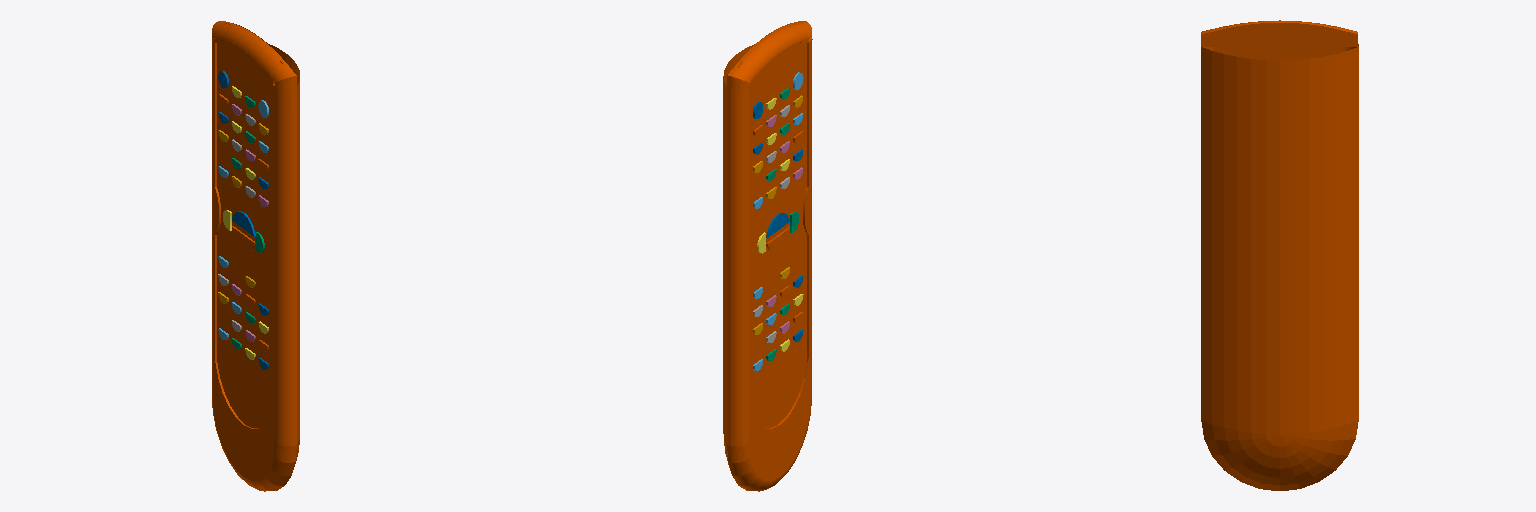
--- What the picture shows (computed from the rendered views, not written in the file) ---
3 views of the same robot in one strip: view 1: azimuth 30°, elevation 25°; view 2: azimuth 150°, elevation 25°; view 3: azimuth 270°, elevation 25° (orthographic).
Robot: partnet_200065ca496c39086372ead55db87fa8 — 46 links, 45 joints (44 prismatic, 1 fixed); root link base; default pose: every joint at zero.
Visible links, largest first — view 1: link_44; view 2: link_44; view 3: link_44.
Link boxes in pixels (x1,y1,x2,y2): link_44: [212, 21, 299, 491]; link_44: [723, 21, 812, 491]; link_44: [1201, 20, 1358, 490].
Bounding box of the posed robot: 0.1952 × 0.6012 × 1.98 m (x, y, z).
Meshes: 53 distinct files referenced, 53 mesh visuals loaded (53 OBJ).

robot.urdf — partnet_200065ca496c39086372ead55db87fa8:
<?xml version="1.0" ?>
<robot name="partnet_200065ca496c39086372ead55db87fa8">
	<link name="base"/>
	<link name="link_0">
		<visual name="button-1">
			<origin xyz="-0.0010991717439805537 -0.10365814251398242 -0.06839100000000009"/>
			<geometry>
				<mesh filename="textured_objs/original-8.obj"/>
			</geometry>
		</visual>
		<collision>
			<origin xyz="-0.0010991717439805537 -0.10365814251398242 -0.06839100000000009"/>
			<geometry>
				<mesh filename="textured_objs/original-8.obj"/>
			</geometry>
		</collision>
	</link>
	<joint name="joint_0" type="prismatic">
		<origin xyz="0.0010991717439805537 0.10365814251398242 0.06839100000000009"/>
		<axis xyz="0 0 -1"/>
		<child link="link_0"/>
		<parent link="link_44"/>
		<limit lower="0" upper="0.005"/>
	</joint>
	<link name="link_1">
		<visual name="button-2">
			<origin xyz="-0.0010991717439805537 -0.10365814251398242 -0.06839100000000009"/>
			<geometry>
				<mesh filename="textured_objs/original-17.obj"/>
			</geometry>
		</visual>
		<collision>
			<origin xyz="-0.0010991717439805537 -0.10365814251398242 -0.06839100000000009"/>
			<geometry>
				<mesh filename="textured_objs/original-17.obj"/>
			</geometry>
		</collision>
	</link>
	<joint name="joint_1" type="prismatic">
		<origin xyz="0.0010991717439805537 0.10365814251398242 0.06839100000000009"/>
		<axis xyz="0 0 -1"/>
		<child link="link_1"/>
		<parent link="link_44"/>
		<limit lower="0" upper="0.005"/>
	</joint>
	<link name="link_2">
		<visual name="button-3">
			<origin xyz="-0.0010991717439805537 -0.10365814251398242 -0.06839100000000009"/>
			<geometry>
				<mesh filename="textured_objs/original-27.obj"/>
			</geometry>
		</visual>
		<collision>
			<origin xyz="-0.0010991717439805537 -0.10365814251398242 -0.06839100000000009"/>
			<geometry>
				<mesh filename="textured_objs/original-27.obj"/>
			</geometry>
		</collision>
	</link>
	<joint name="joint_2" type="prismatic">
		<origin xyz="0.0010991717439805537 0.10365814251398242 0.06839100000000009"/>
		<axis xyz="0 0 -1"/>
		<child link="link_2"/>
		<parent link="link_44"/>
		<limit lower="0" upper="0.005"/>
	</joint>
	<link name="link_3">
		<visual name="button-4">
			<origin xyz="-0.0010991717439805537 -0.10365814251398242 -0.06839100000000009"/>
			<geometry>
				<mesh filename="textured_objs/original-12.obj"/>
			</geometry>
		</visual>
		<collision>
			<origin xyz="-0.0010991717439805537 -0.10365814251398242 -0.06839100000000009"/>
			<geometry>
				<mesh filename="textured_objs/original-12.obj"/>
			</geometry>
		</collision>
	</link>
	<joint name="joint_3" type="prismatic">
		<origin xyz="0.0010991717439805537 0.10365814251398242 0.06839100000000009"/>
		<axis xyz="0 0 -1"/>
		<child link="link_3"/>
		<parent link="link_44"/>
		<limit lower="0" upper="0.005"/>
	</joint>
	<link name="link_4">
		<visual name="button-5">
			<origin xyz="-0.0010991717439805537 -0.10365814251398242 -0.06839100000000009"/>
			<geometry>
				<mesh filename="textured_objs/original-14.obj"/>
			</geometry>
		</visual>
		<collision>
			<origin xyz="-0.0010991717439805537 -0.10365814251398242 -0.06839100000000009"/>
			<geometry>
				<mesh filename="textured_objs/original-14.obj"/>
			</geometry>
		</collision>
	</link>
	<joint name="joint_4" type="prismatic">
		<origin xyz="0.0010991717439805537 0.10365814251398242 0.06839100000000009"/>
		<axis xyz="0 0 -1"/>
		<child link="link_4"/>
		<parent link="link_44"/>
		<limit lower="0" upper="0.005"/>
	</joint>
	<link name="link_5">
		<visual name="button-6">
			<origin xyz="-0.0010991717439805537 -0.10365814251398242 -0.06839100000000009"/>
			<geometry>
				<mesh filename="textured_objs/original-35.obj"/>
			</geometry>
		</visual>
		<collision>
			<origin xyz="-0.0010991717439805537 -0.10365814251398242 -0.06839100000000009"/>
			<geometry>
				<mesh filename="textured_objs/original-35.obj"/>
			</geometry>
		</collision>
	</link>
	<joint name="joint_5" type="prismatic">
		<origin xyz="0.0010991717439805537 0.10365814251398242 0.06839100000000009"/>
		<axis xyz="0 0 -1"/>
		<child link="link_5"/>
		<parent link="link_44"/>
		<limit lower="0" upper="0.005"/>
	</joint>
	<link name="link_6">
		<visual name="button-7">
			<origin xyz="-0.0010991717439805537 -0.10365814251398242 -0.06839100000000009"/>
			<geometry>
				<mesh filename="textured_objs/original-31.obj"/>
			</geometry>
		</visual>
		<collision>
			<origin xyz="-0.0010991717439805537 -0.10365814251398242 -0.06839100000000009"/>
			<geometry>
				<mesh filename="textured_objs/original-31.obj"/>
			</geometry>
		</collision>
	</link>
	<joint name="joint_6" type="prismatic">
		<origin xyz="0.0010991717439805537 0.10365814251398242 0.06839100000000009"/>
		<axis xyz="0 0 -1"/>
		<child link="link_6"/>
		<parent link="link_44"/>
		<limit lower="0" upper="0.005"/>
	</joint>
	<link name="link_7">
		<visual name="button-8">
			<origin xyz="-0.0010991717439805537 -0.10365814251398242 -0.06839100000000009"/>
			<geometry>
				<mesh filename="textured_objs/original-9.obj"/>
			</geometry>
		</visual>
		<collision>
			<origin xyz="-0.0010991717439805537 -0.10365814251398242 -0.06839100000000009"/>
			<geometry>
				<mesh filename="textured_objs/original-9.obj"/>
			</geometry>
		</collision>
	</link>
	<joint name="joint_7" type="prismatic">
		<origin xyz="0.0010991717439805537 0.10365814251398242 0.06839100000000009"/>
		<axis xyz="0 0 -1"/>
		<child link="link_7"/>
		<parent link="link_44"/>
		<limit lower="0" upper="0.005"/>
	</joint>
	<link name="link_8">
		<visual name="button-9">
			<origin xyz="-0.0010991717439805537 -0.10365814251398242 -0.06839100000000009"/>
			<geometry>
				<mesh filename="textured_objs/original-26.obj"/>
			</geometry>
		</visual>
		<collision>
			<origin xyz="-0.0010991717439805537 -0.10365814251398242 -0.06839100000000009"/>
			<geometry>
				<mesh filename="textured_objs/original-26.obj"/>
			</geometry>
		</collision>
	</link>
	<joint name="joint_8" type="prismatic">
		<origin xyz="0.0010991717439805537 0.10365814251398242 0.06839100000000009"/>
		<axis xyz="0 0 -1"/>
		<child link="link_8"/>
		<parent link="link_44"/>
		<limit lower="0" upper="0.005"/>
	</joint>
	<link name="link_9">
		<visual name="button-10">
			<origin xyz="-0.0010991717439805537 -0.10365814251398242 -0.06839100000000009"/>
			<geometry>
				<mesh filename="textured_objs/original-38.obj"/>
			</geometry>
		</visual>
		<collision>
			<origin xyz="-0.0010991717439805537 -0.10365814251398242 -0.06839100000000009"/>
			<geometry>
				<mesh filename="textured_objs/original-38.obj"/>
			</geometry>
		</collision>
	</link>
	<joint name="joint_9" type="prismatic">
		<origin xyz="0.0010991717439805537 0.10365814251398242 0.06839100000000009"/>
		<axis xyz="0 0 -1"/>
		<child link="link_9"/>
		<parent link="link_44"/>
		<limit lower="0" upper="0.005"/>
	</joint>
	<link name="link_10">
		<visual name="button-11">
			<origin xyz="-0.0010991717439805537 -0.10365814251398242 -0.06839100000000009"/>
			<geometry>
				<mesh filename="textured_objs/original-18.obj"/>
			</geometry>
		</visual>
		<collision>
			<origin xyz="-0.0010991717439805537 -0.10365814251398242 -0.06839100000000009"/>
			<geometry>
				<mesh filename="textured_objs/original-18.obj"/>
			</geometry>
		</collision>
	</link>
	<joint name="joint_10" type="prismatic">
		<origin xyz="0.0010991717439805537 0.10365814251398242 0.06839100000000009"/>
		<axis xyz="0 0 -1"/>
		<child link="link_10"/>
		<parent link="link_44"/>
		<limit lower="0" upper="0.005"/>
	</joint>
	<link name="link_11">
		<visual name="button-12">
			<origin xyz="-0.0010991717439805537 -0.10365814251398242 -0.06839100000000009"/>
			<geometry>
				<mesh filename="textured_objs/original-22.obj"/>
			</geometry>
		</visual>
		<collision>
			<origin xyz="-0.0010991717439805537 -0.10365814251398242 -0.06839100000000009"/>
			<geometry>
				<mesh filename="textured_objs/original-22.obj"/>
			</geometry>
		</collision>
	</link>
	<joint name="joint_11" type="prismatic">
		<origin xyz="0.0010991717439805537 0.10365814251398242 0.06839100000000009"/>
		<axis xyz="0 0 -1"/>
		<child link="link_11"/>
		<parent link="link_44"/>
		<limit lower="0" upper="0.005"/>
	</joint>
	<link name="link_12">
		<visual name="button-13">
			<origin xyz="-0.0010991717439805537 -0.10365814251398242 -0.06839100000000009"/>
			<geometry>
				<mesh filename="textured_objs/original-42.obj"/>
			</geometry>
		</visual>
		<collision>
			<origin xyz="-0.0010991717439805537 -0.10365814251398242 -0.06839100000000009"/>
			<geometry>
				<mesh filename="textured_objs/original-42.obj"/>
			</geometry>
		</collision>
	</link>
	<joint name="joint_12" type="prismatic">
		<origin xyz="0.0010991717439805537 0.10365814251398242 0.06839100000000009"/>
		<axis xyz="0 0 -1"/>
		<child link="link_12"/>
		<parent link="link_44"/>
		<limit lower="0" upper="0.005"/>
	</joint>
	<link name="link_13">
		<visual name="button-14">
			<origin xyz="-0.0010991717439805537 -0.10365814251398242 -0.06839100000000009"/>
			<geometry>
				<mesh filename="textured_objs/original-33.obj"/>
			</geometry>
		</visual>
		<collision>
			<origin xyz="-0.0010991717439805537 -0.10365814251398242 -0.06839100000000009"/>
			<geometry>
				<mesh filename="textured_objs/original-33.obj"/>
			</geometry>
		</collision>
	</link>
	<joint name="joint_13" type="prismatic">
		<origin xyz="0.0010991717439805537 0.10365814251398242 0.06839100000000009"/>
		<axis xyz="0 0 -1"/>
		<child link="link_13"/>
		<parent link="link_44"/>
		<limit lower="0" upper="0.005"/>
	</joint>
	<link name="link_14">
		<visual name="button-15">
			<origin xyz="-0.0010991717439805537 -0.10365814251398242 -0.06839100000000009"/>
			<geometry>
				<mesh filename="textured_objs/original-11.obj"/>
			</geometry>
		</visual>
		<collision>
			<origin xyz="-0.0010991717439805537 -0.10365814251398242 -0.06839100000000009"/>
			<geometry>
				<mesh filename="textured_objs/original-11.obj"/>
			</geometry>
		</collision>
	</link>
	<joint name="joint_14" type="prismatic">
		<origin xyz="0.0010991717439805537 0.10365814251398242 0.06839100000000009"/>
		<axis xyz="0 0 -1"/>
		<child link="link_14"/>
		<parent link="link_44"/>
		<limit lower="0" upper="0.005"/>
	</joint>
	<link name="link_15">
		<visual name="button-16">
			<origin xyz="-0.0010991717439805537 -0.10365814251398242 -0.06839100000000009"/>
			<geometry>
				<mesh filename="textured_objs/original-10.obj"/>
			</geometry>
		</visual>
		<collision>
			<origin xyz="-0.0010991717439805537 -0.10365814251398242 -0.06839100000000009"/>
			<geometry>
				<mesh filename="textured_objs/original-10.obj"/>
			</geometry>
		</collision>
	</link>
	<joint name="joint_15" type="prismatic">
		<origin xyz="0.0010991717439805537 0.10365814251398242 0.06839100000000009"/>
		<axis xyz="0 0 -1"/>
		<child link="link_15"/>
		<parent link="link_44"/>
		<limit lower="0" upper="0.005"/>
	</joint>
	<link name="link_16">
		<visual name="button-17">
			<origin xyz="-0.0010991717439805537 -0.10365814251398242 -0.06839100000000009"/>
			<geometry>
				<mesh filename="textured_objs/original-50.obj"/>
			</geometry>
		</visual>
		<collision>
			<origin xyz="-0.0010991717439805537 -0.10365814251398242 -0.06839100000000009"/>
			<geometry>
				<mesh filename="textured_objs/original-50.obj"/>
			</geometry>
		</collision>
	</link>
	<joint name="joint_16" type="prismatic">
		<origin xyz="0.0010991717439805537 0.10365814251398242 0.06839100000000009"/>
		<axis xyz="0 0 -1"/>
		<child link="link_16"/>
		<parent link="link_44"/>
		<limit lower="0" upper="0.005"/>
	</joint>
	<link name="link_17">
		<visual name="button-18">
			<origin xyz="-0.0010991717439805537 -0.10365814251398242 -0.06839100000000009"/>
			<geometry>
				<mesh filename="textured_objs/original-29.obj"/>
			</geometry>
		</visual>
		<collision>
			<origin xyz="-0.0010991717439805537 -0.10365814251398242 -0.06839100000000009"/>
			<geometry>
				<mesh filename="textured_objs/original-29.obj"/>
			</geometry>
		</collision>
	</link>
	<joint name="joint_17" type="prismatic">
		<origin xyz="0.0010991717439805537 0.10365814251398242 0.06839100000000009"/>
		<axis xyz="0 0 -1"/>
		<child link="link_17"/>
		<parent link="link_44"/>
		<limit lower="0" upper="0.005"/>
	</joint>
	<link name="link_18">
		<visual name="button-19">
			<origin xyz="-0.0010991717439805537 -0.10365814251398242 -0.06839100000000009"/>
			<geometry>
				<mesh filename="textured_objs/original-23.obj"/>
			</geometry>
		</visual>
		<collision>
			<origin xyz="-0.0010991717439805537 -0.10365814251398242 -0.06839100000000009"/>
			<geometry>
				<mesh filename="textured_objs/original-23.obj"/>
			</geometry>
		</collision>
	</link>
	<joint name="joint_18" type="prismatic">
		<origin xyz="0.0010991717439805537 0.10365814251398242 0.06839100000000009"/>
		<axis xyz="0 0 -1"/>
		<child link="link_18"/>
		<parent link="link_44"/>
		<limit lower="0" upper="0.005"/>
	</joint>
	<link name="link_19">
		<visual name="button-20">
			<origin xyz="-0.0010991717439805537 -0.10365814251398242 -0.06839100000000009"/>
			<geometry>
				<mesh filename="textured_objs/original-20.obj"/>
			</geometry>
		</visual>
		<collision>
			<origin xyz="-0.0010991717439805537 -0.10365814251398242 -0.06839100000000009"/>
			<geometry>
				<mesh filename="textured_objs/original-20.obj"/>
			</geometry>
		</collision>
	</link>
	<joint name="joint_19" type="prismatic">
		<origin xyz="0.0010991717439805537 0.10365814251398242 0.06839100000000009"/>
		<axis xyz="0 0 -1"/>
		<child link="link_19"/>
		<parent link="link_44"/>
		<limit lower="0" upper="0.005"/>
	</joint>
	<link name="link_20">
		<visual name="button-21">
			<origin xyz="-0.0010991717439805537 -0.10365814251398242 -0.06839100000000009"/>
			<geometry>
				<mesh filename="textured_objs/original-13.obj"/>
			</geometry>
		</visual>
		<collision>
			<origin xyz="-0.0010991717439805537 -0.10365814251398242 -0.06839100000000009"/>
			<geometry>
				<mesh filename="textured_objs/original-13.obj"/>
			</geometry>
		</collision>
	</link>
	<joint name="joint_20" type="prismatic">
		<origin xyz="0.0010991717439805537 0.10365814251398242 0.06839100000000009"/>
		<axis xyz="0 0 -1"/>
		<child link="link_20"/>
		<parent link="link_44"/>
		<limit lower="0" upper="0.005"/>
	</joint>
	<link name="link_21">
		<visual name="button-22">
			<origin xyz="-0.0010991717439805537 -0.10365814251398242 -0.06839100000000009"/>
			<geometry>
				<mesh filename="textured_objs/original-19.obj"/>
			</geometry>
		</visual>
		<collision>
			<origin xyz="-0.0010991717439805537 -0.10365814251398242 -0.06839100000000009"/>
			<geometry>
				<mesh filename="textured_objs/original-19.obj"/>
			</geometry>
		</collision>
	</link>
	<joint name="joint_21" type="prismatic">
		<origin xyz="0.0010991717439805537 0.10365814251398242 0.06839100000000009"/>
		<axis xyz="0 0 -1"/>
		<child link="link_21"/>
		<parent link="link_44"/>
		<limit lower="0" upper="0.005"/>
	</joint>
	<link name="link_22">
		<visual name="button-23">
			<origin xyz="-0.0010991717439805537 -0.10365814251398242 -0.06839100000000009"/>
			<geometry>
				<mesh filename="textured_objs/original-37.obj"/>
			</geometry>
		</visual>
		<collision>
			<origin xyz="-0.0010991717439805537 -0.10365814251398242 -0.06839100000000009"/>
			<geometry>
				<mesh filename="textured_objs/original-37.obj"/>
			</geometry>
		</collision>
	</link>
	<joint name="joint_22" type="prismatic">
		<origin xyz="0.0010991717439805537 0.10365814251398242 0.06839100000000009"/>
		<axis xyz="0 0 -1"/>
		<child link="link_22"/>
		<parent link="link_44"/>
		<limit lower="0" upper="0.005"/>
	</joint>
	<link name="link_23">
		<visual name="button-24">
			<origin xyz="-0.0010991717439805537 -0.10365814251398242 -0.06839100000000009"/>
			<geometry>
				<mesh filename="textured_objs/original-34.obj"/>
			</geometry>
		</visual>
		<collision>
			<origin xyz="-0.0010991717439805537 -0.10365814251398242 -0.06839100000000009"/>
			<geometry>
				<mesh filename="textured_objs/original-34.obj"/>
			</geometry>
		</collision>
	</link>
	<joint name="joint_23" type="prismatic">
		<origin xyz="0.0010991717439805537 0.10365814251398242 0.06839100000000009"/>
		<axis xyz="0 0 -1"/>
		<child link="link_23"/>
		<parent link="link_44"/>
		<limit lower="0" upper="0.005"/>
	</joint>
	<link name="link_24">
		<visual name="button-25">
			<origin xyz="-0.0010991717439805537 -0.10365814251398242 -0.06839100000000009"/>
			<geometry>
				<mesh filename="textured_objs/original-15.obj"/>
			</geometry>
		</visual>
		<collision>
			<origin xyz="-0.0010991717439805537 -0.10365814251398242 -0.06839100000000009"/>
			<geometry>
				<mesh filename="textured_objs/original-15.obj"/>
			</geometry>
		</collision>
	</link>
	<joint name="joint_24" type="prismatic">
		<origin xyz="0.0010991717439805537 0.10365814251398242 0.06839100000000009"/>
		<axis xyz="0 0 -1"/>
		<child link="link_24"/>
		<parent link="link_44"/>
		<limit lower="0" upper="0.005"/>
	</joint>
	<link name="link_25">
		<visual name="button-26">
			<origin xyz="-0.0010991717439805537 -0.10365814251398242 -0.06839100000000009"/>
			<geometry>
				<mesh filename="textured_objs/original-39.obj"/>
			</geometry>
		</visual>
		<collision>
			<origin xyz="-0.0010991717439805537 -0.10365814251398242 -0.06839100000000009"/>
			<geometry>
				<mesh filename="textured_objs/original-39.obj"/>
			</geometry>
		</collision>
	</link>
	<joint name="joint_25" type="prismatic">
		<origin xyz="0.0010991717439805537 0.10365814251398242 0.06839100000000009"/>
		<axis xyz="0 0 -1"/>
		<child link="link_25"/>
		<parent link="link_44"/>
		<limit lower="0" upper="0.005"/>
	</joint>
	<link name="link_26">
		<visual name="button-27">
			<origin xyz="-0.0010991717439805537 -0.10365814251398242 -0.06839100000000009"/>
			<geometry>
				<mesh filename="textured_objs/original-43.obj"/>
			</geometry>
		</visual>
		<collision>
			<origin xyz="-0.0010991717439805537 -0.10365814251398242 -0.06839100000000009"/>
			<geometry>
				<mesh filename="textured_objs/original-43.obj"/>
			</geometry>
		</collision>
	</link>
	<joint name="joint_26" type="prismatic">
		<origin xyz="0.0010991717439805537 0.10365814251398242 0.06839100000000009"/>
		<axis xyz="0 0 -1"/>
		<child link="link_26"/>
		<parent link="link_44"/>
		<limit lower="0" upper="0.005"/>
	</joint>
	<link name="link_27">
		<visual name="button-28">
			<origin xyz="-0.0010991717439805537 -0.10365814251398242 -0.06839100000000009"/>
			<geometry>
				<mesh filename="textured_objs/original-24.obj"/>
			</geometry>
		</visual>
		<collision>
			<origin xyz="-0.0010991717439805537 -0.10365814251398242 -0.06839100000000009"/>
			<geometry>
				<mesh filename="textured_objs/original-24.obj"/>
			</geometry>
		</collision>
	</link>
	<joint name="joint_27" type="prismatic">
		<origin xyz="0.0010991717439805537 0.10365814251398242 0.06839100000000009"/>
		<axis xyz="0 0 -1"/>
		<child link="link_27"/>
		<parent link="link_44"/>
		<limit lower="0" upper="0.005"/>
	</joint>
	<link name="link_28">
		<visual name="button-29">
			<origin xyz="-0.0010991717439805537 -0.10365814251398242 -0.06839100000000009"/>
			<geometry>
				<mesh filename="textured_objs/original-28.obj"/>
			</geometry>
		</visual>
		<collision>
			<origin xyz="-0.0010991717439805537 -0.10365814251398242 -0.06839100000000009"/>
			<geometry>
				<mesh filename="textured_objs/original-28.obj"/>
			</geometry>
		</collision>
	</link>
	<joint name="joint_28" type="prismatic">
		<origin xyz="0.0010991717439805537 0.10365814251398242 0.06839100000000009"/>
		<axis xyz="0 0 -1"/>
		<child link="link_28"/>
		<parent link="link_44"/>
		<limit lower="0" upper="0.005"/>
	</joint>
	<link name="link_29">
		<visual name="button-30">
			<origin xyz="-0.0010991717439805537 -0.10365814251398242 -0.06839100000000009"/>
			<geometry>
				<mesh filename="textured_objs/original-45.obj"/>
			</geometry>
		</visual>
		<collision>
			<origin xyz="-0.0010991717439805537 -0.10365814251398242 -0.06839100000000009"/>
			<geometry>
				<mesh filename="textured_objs/original-45.obj"/>
			</geometry>
		</collision>
	</link>
	<joint name="joint_29" type="prismatic">
		<origin xyz="0.0010991717439805537 0.10365814251398242 0.06839100000000009"/>
		<axis xyz="0 0 -1"/>
		<child link="link_29"/>
		<parent link="link_44"/>
		<limit lower="0" upper="0.005"/>
	</joint>
	<link name="link_30">
		<visual name="button-31">
			<origin xyz="-0.0010991717439805537 -0.10365814251398242 -0.06839100000000009"/>
			<geometry>
				<mesh filename="textured_objs/original-41.obj"/>
			</geometry>
		</visual>
		<collision>
			<origin xyz="-0.0010991717439805537 -0.10365814251398242 -0.06839100000000009"/>
			<geometry>
				<mesh filename="textured_objs/original-41.obj"/>
			</geometry>
		</collision>
	</link>
	<joint name="joint_30" type="prismatic">
		<origin xyz="0.0010991717439805537 0.10365814251398242 0.06839100000000009"/>
		<axis xyz="0 0 -1"/>
		<child link="link_30"/>
		<parent link="link_44"/>
		<limit lower="0" upper="0.005"/>
	</joint>
	<link name="link_31">
		<visual name="button-32">
			<origin xyz="-0.0010991717439805537 -0.10365814251398242 -0.06839100000000009"/>
			<geometry>
				<mesh filename="textured_objs/original-16.obj"/>
			</geometry>
		</visual>
		<collision>
			<origin xyz="-0.0010991717439805537 -0.10365814251398242 -0.06839100000000009"/>
			<geometry>
				<mesh filename="textured_objs/original-16.obj"/>
			</geometry>
		</collision>
	</link>
	<joint name="joint_31" type="prismatic">
		<origin xyz="0.0010991717439805537 0.10365814251398242 0.06839100000000009"/>
		<axis xyz="0 0 -1"/>
		<child link="link_31"/>
		<parent link="link_44"/>
		<limit lower="0" upper="0.005"/>
	</joint>
	<link name="link_32">
		<visual name="button-33">
			<origin xyz="-0.0010991717439805537 -0.10365814251398242 -0.06839100000000009"/>
			<geometry>
				<mesh filename="textured_objs/original-32.obj"/>
			</geometry>
		</visual>
		<collision>
			<origin xyz="-0.0010991717439805537 -0.10365814251398242 -0.06839100000000009"/>
			<geometry>
				<mesh filename="textured_objs/original-32.obj"/>
			</geometry>
		</collision>
	</link>
	<joint name="joint_32" type="prismatic">
		<origin xyz="0.0010991717439805537 0.10365814251398242 0.06839100000000009"/>
		<axis xyz="0 0 -1"/>
		<child link="link_32"/>
		<parent link="link_44"/>
		<limit lower="0" upper="0.005"/>
	</joint>
	<link name="link_33">
		<visual name="button-34">
			<origin xyz="-0.0010991717439805537 -0.10365814251398242 -0.06839100000000009"/>
			<geometry>
				<mesh filename="textured_objs/original-46.obj"/>
			</geometry>
		</visual>
		<collision>
			<origin xyz="-0.0010991717439805537 -0.10365814251398242 -0.06839100000000009"/>
			<geometry>
				<mesh filename="textured_objs/original-46.obj"/>
			</geometry>
		</collision>
	</link>
	<joint name="joint_33" type="prismatic">
		<origin xyz="0.0010991717439805537 0.10365814251398242 0.06839100000000009"/>
		<axis xyz="0 0 -1"/>
		<child link="link_33"/>
		<parent link="link_44"/>
		<limit lower="0" upper="0.005"/>
	</joint>
	<link name="link_34">
		<visual name="button-35">
			<origin xyz="-0.0010991717439805537 -0.10365814251398242 -0.06839100000000009"/>
			<geometry>
				<mesh filename="textured_objs/original-40.obj"/>
			</geometry>
		</visual>
		<collision>
			<origin xyz="-0.0010991717439805537 -0.10365814251398242 -0.06839100000000009"/>
			<geometry>
				<mesh filename="textured_objs/original-40.obj"/>
			</geometry>
		</collision>
	</link>
	<joint name="joint_34" type="prismatic">
		<origin xyz="0.0010991717439805537 0.10365814251398242 0.06839100000000009"/>
		<axis xyz="0 0 -1"/>
		<child link="link_34"/>
		<parent link="link_44"/>
		<limit lower="0" upper="0.005"/>
	</joint>
	<link name="link_35">
		<visual name="button-36">
			<origin xyz="-0.0010991717439805537 -0.10365814251398242 -0.06839100000000009"/>
			<geometry>
				<mesh filename="textured_objs/original-21.obj"/>
			</geometry>
		</visual>
		<collision>
			<origin xyz="-0.0010991717439805537 -0.10365814251398242 -0.06839100000000009"/>
			<geometry>
				<mesh filename="textured_objs/original-21.obj"/>
			</geometry>
		</collision>
	</link>
	<joint name="joint_35" type="prismatic">
		<origin xyz="0.0010991717439805537 0.10365814251398242 0.06839100000000009"/>
		<axis xyz="0 0 -1"/>
		<child link="link_35"/>
		<parent link="link_44"/>
		<limit lower="0" upper="0.005"/>
	</joint>
	<link name="link_36">
		<visual name="button-37">
			<origin xyz="-0.0010991717439805537 -0.10365814251398242 -0.06839100000000009"/>
			<geometry>
				<mesh filename="textured_objs/original-25.obj"/>
			</geometry>
		</visual>
		<collision>
			<origin xyz="-0.0010991717439805537 -0.10365814251398242 -0.06839100000000009"/>
			<geometry>
				<mesh filename="textured_objs/original-25.obj"/>
			</geometry>
		</collision>
	</link>
	<joint name="joint_36" type="prismatic">
		<origin xyz="0.0010991717439805537 0.10365814251398242 0.06839100000000009"/>
		<axis xyz="0 0 -1"/>
		<child link="link_36"/>
		<parent link="link_44"/>
		<limit lower="0" upper="0.005"/>
	</joint>
	<link name="link_37">
		<visual name="button-38">
			<origin xyz="-0.0010991717439805537 -0.10365814251398242 -0.06839100000000009"/>
			<geometry>
				<mesh filename="textured_objs/original-44.obj"/>
			</geometry>
		</visual>
		<collision>
			<origin xyz="-0.0010991717439805537 -0.10365814251398242 -0.06839100000000009"/>
			<geometry>
				<mesh filename="textured_objs/original-44.obj"/>
			</geometry>
		</collision>
	</link>
	<joint name="joint_37" type="prismatic">
		<origin xyz="0.0010991717439805537 0.10365814251398242 0.06839100000000009"/>
		<axis xyz="0 0 -1"/>
		<child link="link_37"/>
		<parent link="link_44"/>
		<limit lower="0" upper="0.005"/>
	</joint>
	<link name="link_38">
		<visual name="button-39">
			<origin xyz="-0.0010991717439805537 -0.10365814251398242 -0.06839100000000009"/>
			<geometry>
				<mesh filename="textured_objs/original-48.obj"/>
			</geometry>
		</visual>
		<collision>
			<origin xyz="-0.0010991717439805537 -0.10365814251398242 -0.06839100000000009"/>
			<geometry>
				<mesh filename="textured_objs/original-48.obj"/>
			</geometry>
		</collision>
	</link>
	<joint name="joint_38" type="prismatic">
		<origin xyz="0.0010991717439805537 0.10365814251398242 0.06839100000000009"/>
		<axis xyz="0 0 -1"/>
		<child link="link_38"/>
		<parent link="link_44"/>
		<limit lower="0" upper="0.005"/>
	</joint>
	<link name="link_39">
		<visual name="button-40">
			<origin xyz="-0.0010991717439805537 -0.10365814251398242 -0.06839100000000009"/>
			<geometry>
				<mesh filename="textured_objs/original-36.obj"/>
			</geometry>
		</visual>
		<collision>
			<origin xyz="-0.0010991717439805537 -0.10365814251398242 -0.06839100000000009"/>
			<geometry>
				<mesh filename="textured_objs/original-36.obj"/>
			</geometry>
		</collision>
	</link>
	<joint name="joint_39" type="prismatic">
		<origin xyz="0.0010991717439805537 0.10365814251398242 0.06839100000000009"/>
		<axis xyz="0 0 -1"/>
		<child link="link_39"/>
		<parent link="link_44"/>
		<limit lower="0" upper="0.005"/>
	</joint>
	<link name="link_40">
		<visual name="button-41">
			<origin xyz="-0.0010991717439805537 -0.10365814251398242 -0.06839100000000009"/>
			<geometry>
				<mesh filename="textured_objs/original-30.obj"/>
			</geometry>
		</visual>
		<collision>
			<origin xyz="-0.0010991717439805537 -0.10365814251398242 -0.06839100000000009"/>
			<geometry>
				<mesh filename="textured_objs/original-30.obj"/>
			</geometry>
		</collision>
	</link>
	<joint name="joint_40" type="prismatic">
		<origin xyz="0.0010991717439805537 0.10365814251398242 0.06839100000000009"/>
		<axis xyz="0 0 -1"/>
		<child link="link_40"/>
		<parent link="link_44"/>
		<limit lower="0" upper="0.005"/>
	</joint>
	<link name="link_41">
		<visual name="button-42">
			<origin xyz="-0.0010991717439805537 -0.10365814251398242 -0.06839100000000009"/>
			<geometry>
				<mesh filename="textured_objs/original-49.obj"/>
			</geometry>
		</visual>
		<collision>
			<origin xyz="-0.0010991717439805537 -0.10365814251398242 -0.06839100000000009"/>
			<geometry>
				<mesh filename="textured_objs/original-49.obj"/>
			</geometry>
		</collision>
	</link>
	<joint name="joint_41" type="prismatic">
		<origin xyz="0.0010991717439805537 0.10365814251398242 0.06839100000000009"/>
		<axis xyz="0 0 -1"/>
		<child link="link_41"/>
		<parent link="link_44"/>
		<limit lower="0" upper="0.005"/>
	</joint>
	<link name="link_42">
		<visual name="button-43">
			<origin xyz="-0.0010991717439805537 -0.10365814251398242 -0.06839100000000009"/>
			<geometry>
				<mesh filename="textured_objs/original-47.obj"/>
			</geometry>
		</visual>
		<collision>
			<origin xyz="-0.0010991717439805537 -0.10365814251398242 -0.06839100000000009"/>
			<geometry>
				<mesh filename="textured_objs/original-47.obj"/>
			</geometry>
		</collision>
	</link>
	<joint name="joint_42" type="prismatic">
		<origin xyz="0.0010991717439805537 0.10365814251398242 0.06839100000000009"/>
		<axis xyz="0 0 -1"/>
		<child link="link_42"/>
		<parent link="link_44"/>
		<limit lower="0" upper="0.005"/>
	</joint>
	<link name="link_43">
		<visual name="button-44">
			<origin xyz="-0.0010991717439805537 -0.10365814251398242 -0.06839100000000009"/>
			<geometry>
				<mesh filename="textured_objs/original-51.obj"/>
			</geometry>
		</visual>
		<collision>
			<origin xyz="-0.0010991717439805537 -0.10365814251398242 -0.06839100000000009"/>
			<geometry>
				<mesh filename="textured_objs/original-51.obj"/>
			</geometry>
		</collision>
	</link>
	<joint name="joint_43" type="prismatic">
		<origin xyz="0.0010991717439805537 0.10365814251398242 0.06839100000000009"/>
		<axis xyz="0 0 -1"/>
		<child link="link_43"/>
		<parent link="link_44"/>
		<limit lower="0" upper="0.005"/>
	</joint>
	<link name="link_44">
		<visual name="base_body-45">
			<origin xyz="0 0 0"/>
			<geometry>
				<mesh filename="textured_objs/original-52.obj"/>
			</geometry>
		</visual>
		<visual name="base_body-45">
			<origin xyz="0 0 0"/>
			<geometry>
				<mesh filename="textured_objs/original-4.obj"/>
			</geometry>
		</visual>
		<visual name="base_body-45">
			<origin xyz="0 0 0"/>
			<geometry>
				<mesh filename="textured_objs/original-3.obj"/>
			</geometry>
		</visual>
		<visual name="base_body-45">
			<origin xyz="0 0 0"/>
			<geometry>
				<mesh filename="textured_objs/original-2.obj"/>
			</geometry>
		</visual>
		<visual name="base_body-45">
			<origin xyz="0 0 0"/>
			<geometry>
				<mesh filename="textured_objs/original-5.obj"/>
			</geometry>
		</visual>
		<visual name="base_body-45">
			<origin xyz="0 0 0"/>
			<geometry>
				<mesh filename="textured_objs/original-6.obj"/>
			</geometry>
		</visual>
		<visual name="base_body-45">
			<origin xyz="0 0 0"/>
			<geometry>
				<mesh filename="textured_objs/original-53.obj"/>
			</geometry>
		</visual>
		<visual name="base_body-45">
			<origin xyz="0 0 0"/>
			<geometry>
				<mesh filename="textured_objs/original-7.obj"/>
			</geometry>
		</visual>
		<visual name="base_body-45">
			<origin xyz="0 0 0"/>
			<geometry>
				<mesh filename="textured_objs/original-1.obj"/>
			</geometry>
		</visual>
		<collision>
			<origin xyz="0 0 0"/>
			<geometry>
				<mesh filename="textured_objs/original-52.obj"/>
			</geometry>
		</collision>
		<collision>
			<origin xyz="0 0 0"/>
			<geometry>
				<mesh filename="textured_objs/original-4.obj"/>
			</geometry>
		</collision>
		<collision>
			<origin xyz="0 0 0"/>
			<geometry>
				<mesh filename="textured_objs/original-3.obj"/>
			</geometry>
		</collision>
		<collision>
			<origin xyz="0 0 0"/>
			<geometry>
				<mesh filename="textured_objs/original-2.obj"/>
			</geometry>
		</collision>
		<collision>
			<origin xyz="0 0 0"/>
			<geometry>
				<mesh filename="textured_objs/original-5.obj"/>
			</geometry>
		</collision>
		<collision>
			<origin xyz="0 0 0"/>
			<geometry>
				<mesh filename="textured_objs/original-6.obj"/>
			</geometry>
		</collision>
		<collision>
			<origin xyz="0 0 0"/>
			<geometry>
				<mesh filename="textured_objs/original-53.obj"/>
			</geometry>
		</collision>
		<collision>
			<origin xyz="0 0 0"/>
			<geometry>
				<mesh filename="textured_objs/original-7.obj"/>
			</geometry>
		</collision>
		<collision>
			<origin xyz="0 0 0"/>
			<geometry>
				<mesh filename="textured_objs/original-1.obj"/>
			</geometry>
		</collision>
	</link>
	<joint name="joint_44" type="fixed">
		<origin rpy="1.570796326794897 0 -1.570796326794897" xyz="0 0 0"/>
		<child link="link_44"/>
		<parent link="base"/>
	</joint>
</robot>
